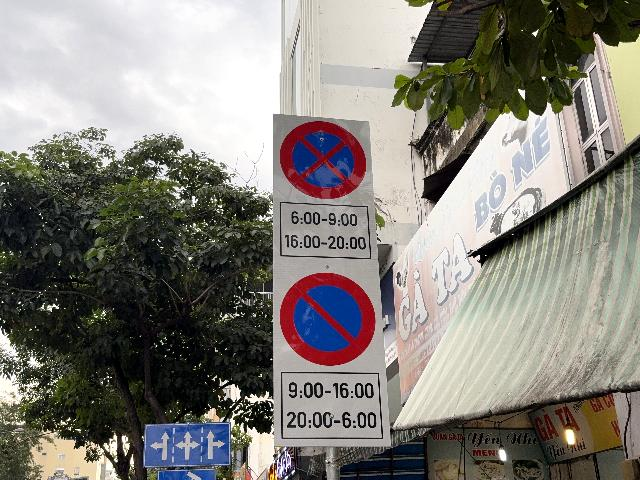cam-do-xe: (280, 273, 376, 366)
cam-dung-va-do-xe: (280, 121, 367, 198)
